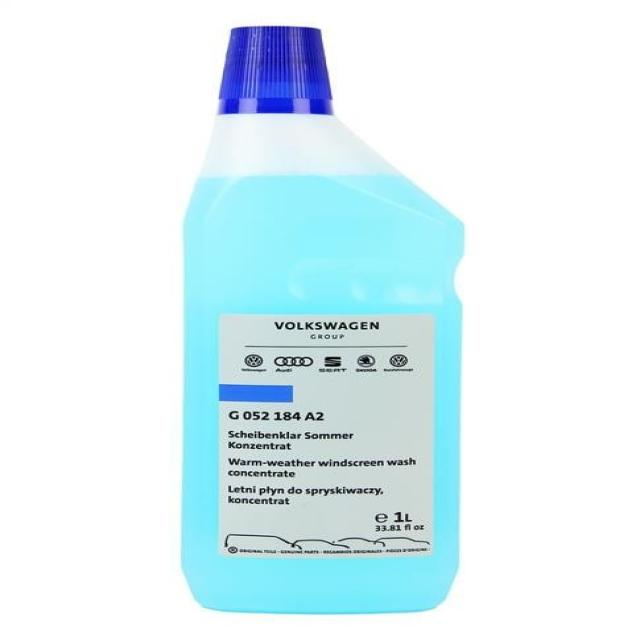winwinshield_washer: (170, 21, 478, 618)
